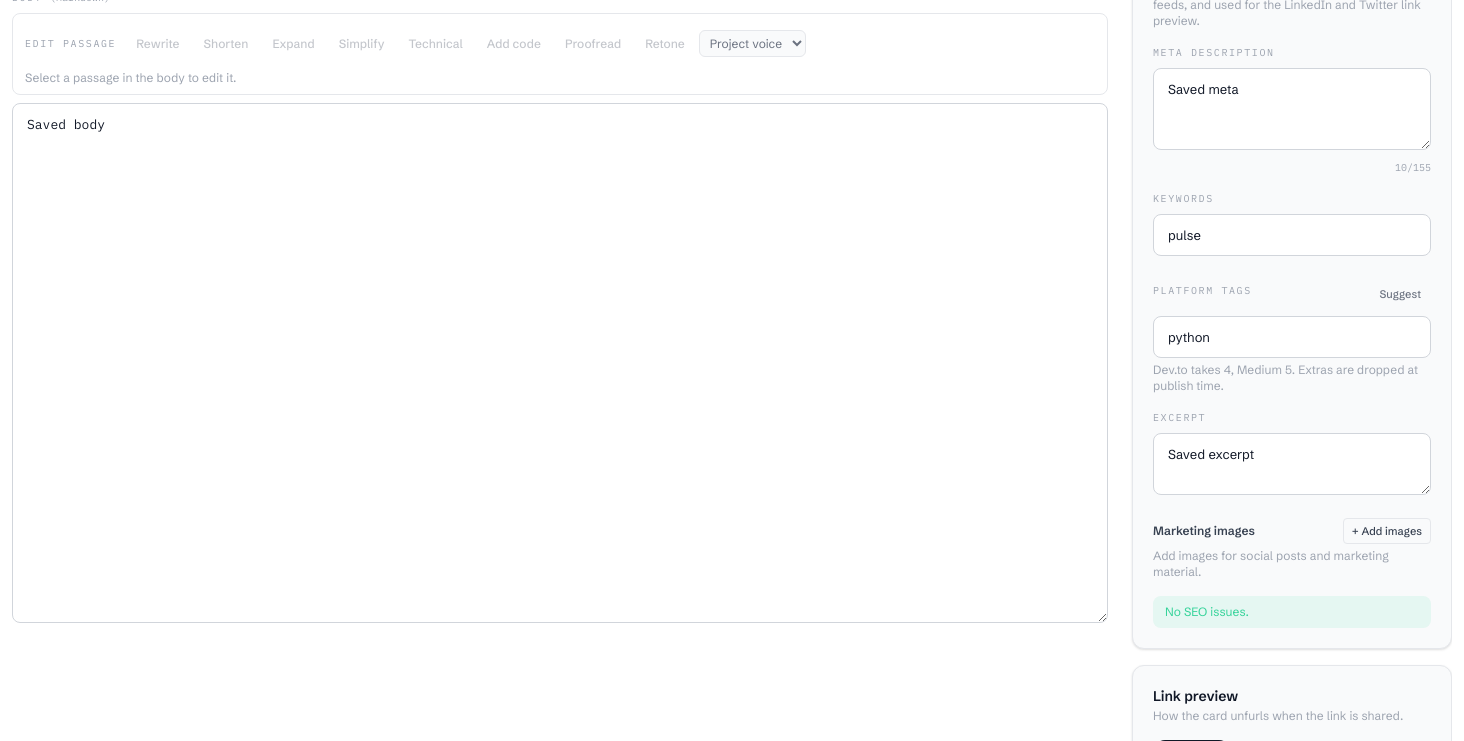
Test: length figures › counts the text on screen, not the last thing saved
(page scrolled)
Type " and then some more" into the text box labelled "Body (Markdown)" at (560, 362), box [12, 102, 1108, 622]
(page scrolled)
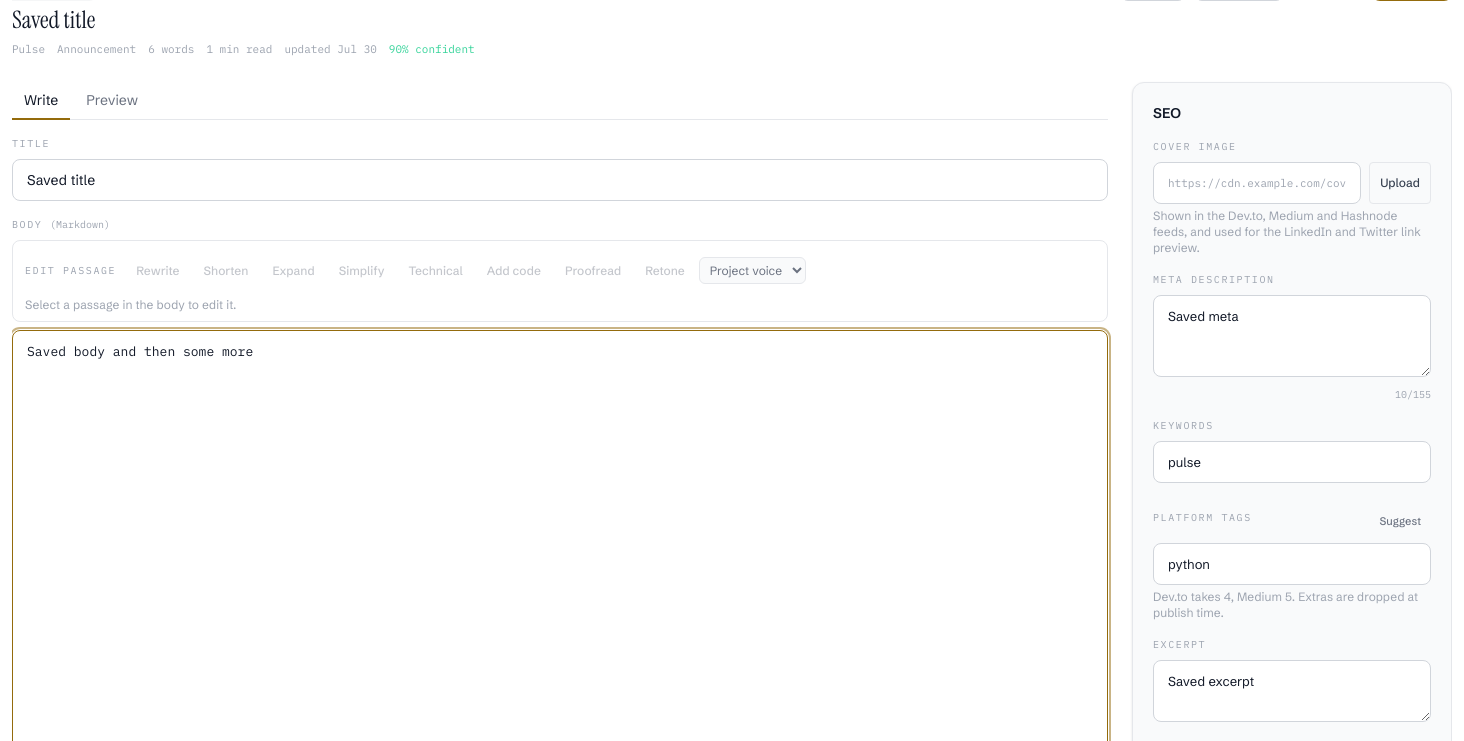
Check: the text "6 words" is shown, box [148, 41, 194, 58]
